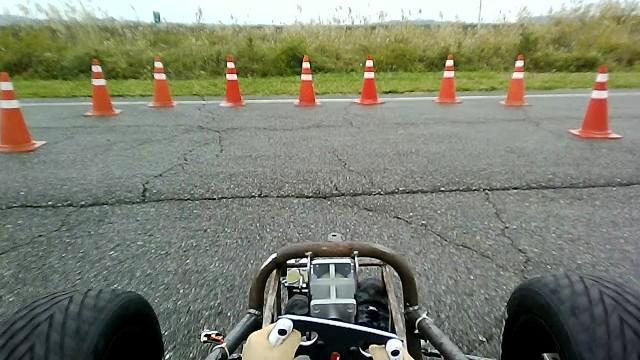red cone: (567, 63, 623, 138), (0, 71, 47, 153), (83, 58, 122, 116), (499, 54, 532, 106), (352, 54, 385, 105), (146, 54, 175, 107), (293, 54, 321, 107), (434, 53, 463, 103), (219, 54, 246, 107)
